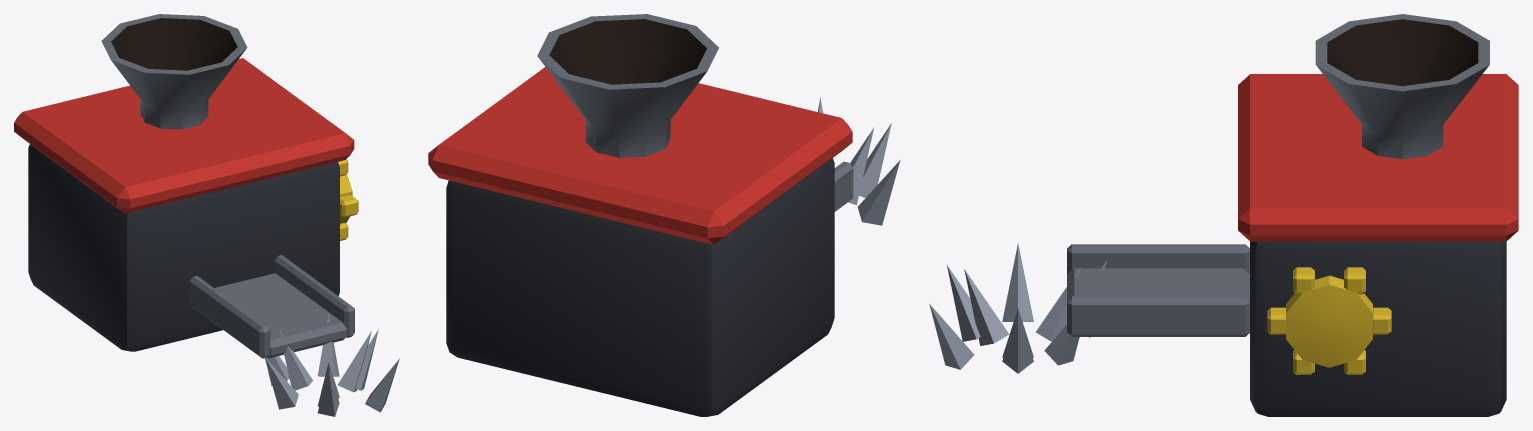
3 renders of one model, left to right at view 1: azimuth 30°, elevation 25°; view 2: azimuth 150°, elevation 25°; view 3: azimuth 270°, elevation 25°, orthographic. The views are drawn at different scales.
Parts seen in each view (by area): view 1: espinhos_0_base; view 2: espinhos_0_base; view 3: espinhos_0_base.
Boxes of the visible parts, left/top/right/bottom form: espinhos_0_base: left=14, top=14, right=399, bottom=416; espinhos_0_base: left=428, top=14, right=900, bottom=416; espinhos_0_base: left=929, top=14, right=1518, bottom=416.
Size of the model in its own units: 0.596 by 0.55 by 0.9656.
